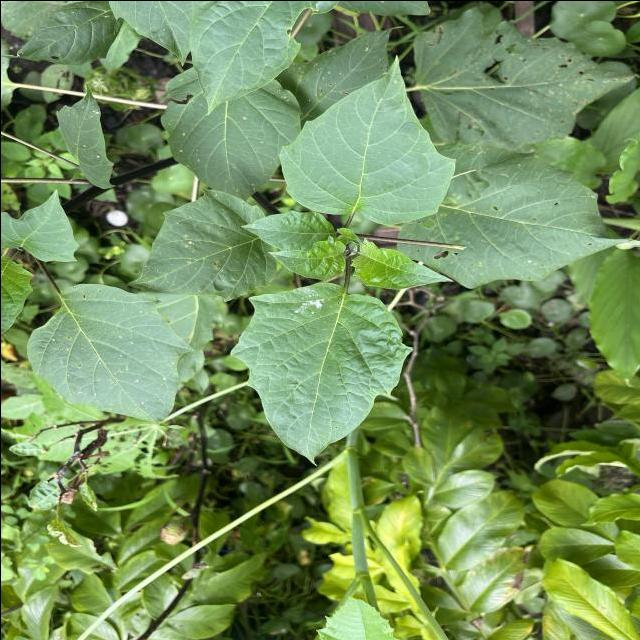Datura metal linn: (226, 280, 416, 470), (276, 51, 462, 226), (23, 280, 198, 428)
